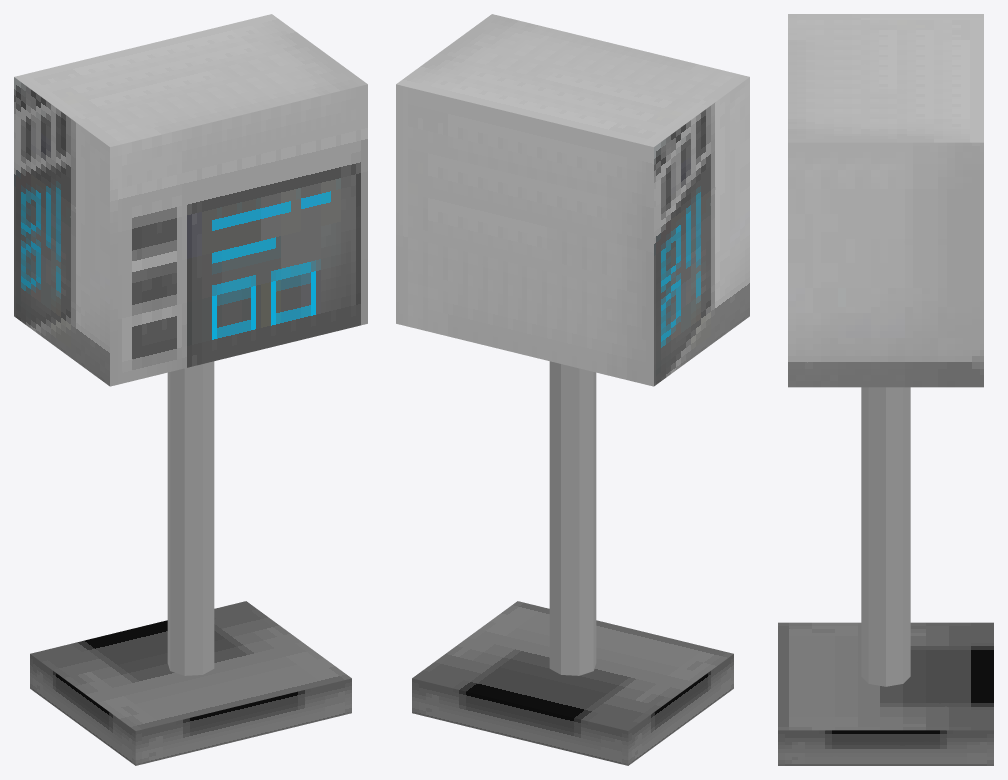
Rendered from Building_VitalsMonitor.glb.
3 views of the same model, side by side, from view 1: azimuth 30°, elevation 25°; view 2: azimuth 150°, elevation 25°; view 3: azimuth 270°, elevation 25° (orthographic). The views are drawn at different scales.
Visible parts, largest first — view 1: VitalsMonitor; view 2: VitalsMonitor; view 3: VitalsMonitor.
Boxes of the visible parts, x1,y1,x2,y2 form: VitalsMonitor: (14,14,367,765); VitalsMonitor: (396,14,749,765); VitalsMonitor: (778,14,993,765).
Bounding box in the file's own units: 0.62 × 1.42 × 0.44.
1 material, 1 textured.
